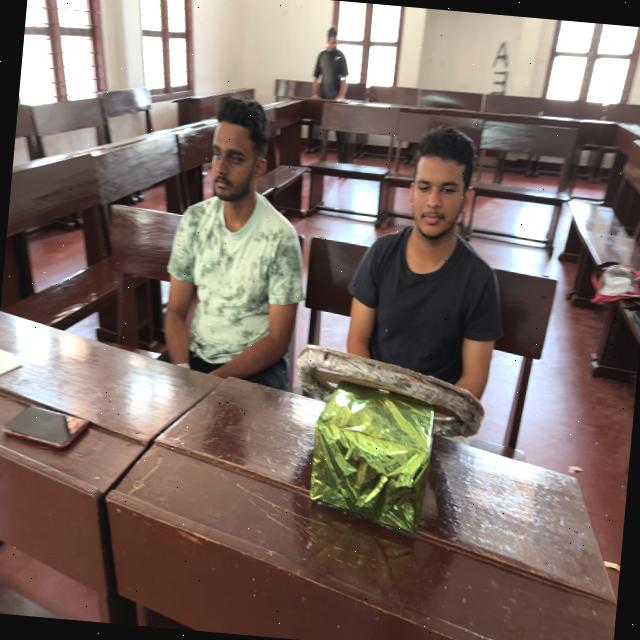no-seatbelt: (334, 227, 511, 449), (153, 197, 307, 402)
